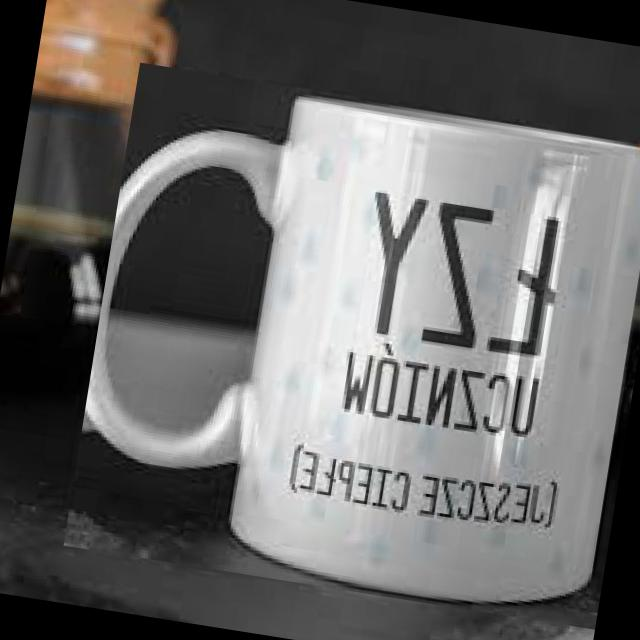Coffee Mug: (64, 65, 640, 618)
